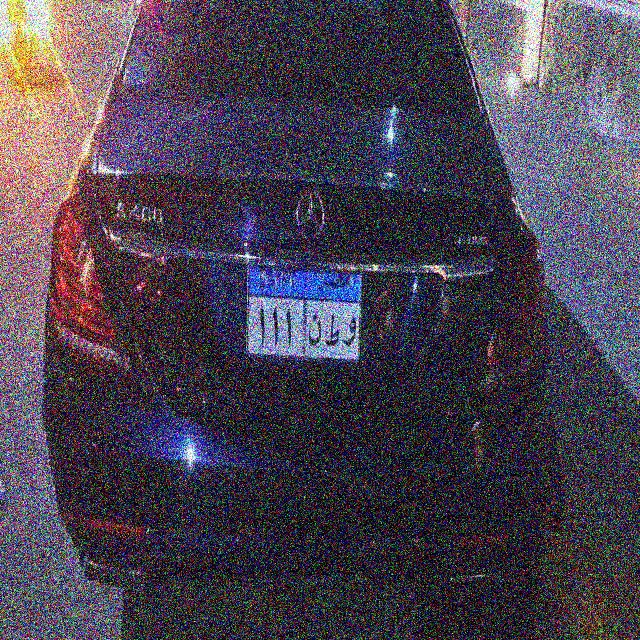License Plate: (243, 259, 363, 366)
